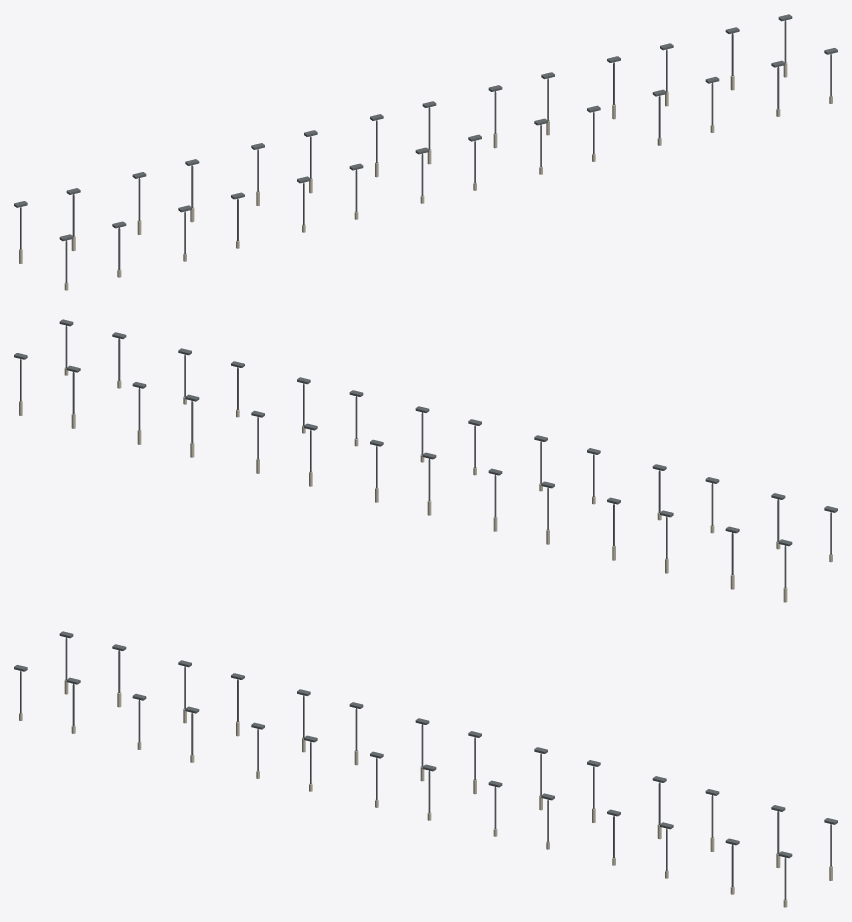
3 views of the same model, one above another, from view 1: azimuth 30°, elevation 25°; view 2: azimuth 150°, elevation 25°; view 3: azimuth 330°, elevation 25° (orthographic).
Visible parts, largest first — view 1: buildings_s_-9_-5_Dark_Metal, buildings_s_-9_-5_Warm_Limestone; view 2: buildings_s_-9_-5_Dark_Metal, buildings_s_-9_-5_Warm_Limestone; view 3: buildings_s_-9_-5_Dark_Metal, buildings_s_-9_-5_Warm_Limestone.
Part boxes in pixels (x1=…): buildings_s_-9_-5_Dark_Metal: x1=14, y1=14, x2=837, y2=283; buildings_s_-9_-5_Warm_Limestone: x1=19, y1=62, x2=832, y2=290; buildings_s_-9_-5_Dark_Metal: x1=14, y1=319, x2=837, y2=588; buildings_s_-9_-5_Warm_Limestone: x1=19, y1=367, x2=832, y2=602; buildings_s_-9_-5_Dark_Metal: x1=14, y1=631, x2=837, y2=900; buildings_s_-9_-5_Warm_Limestone: x1=19, y1=679, x2=832, y2=907.
Bounding box in the file's own units: 118 × 8.68 × 12.9.
